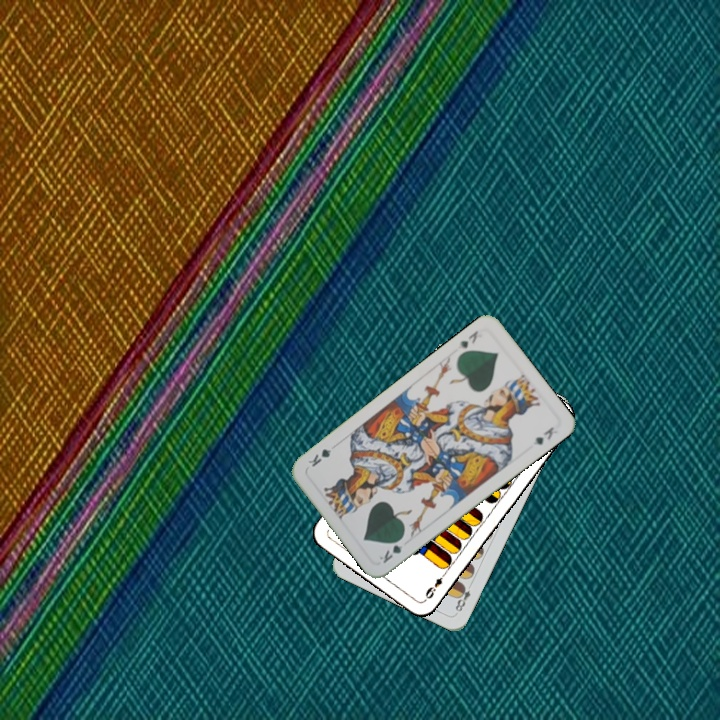E8: (451, 579, 476, 616)
E9: (421, 567, 449, 603)
GK: (375, 533, 407, 566), (455, 326, 481, 351)
